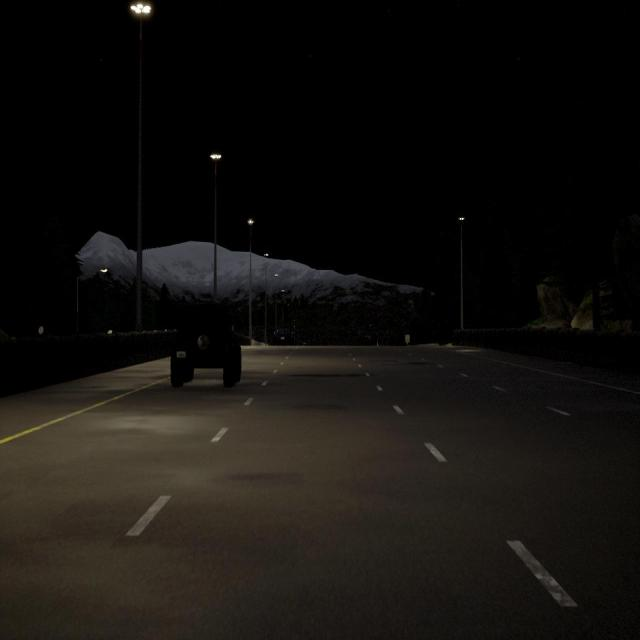Vehicle: (170, 304, 242, 388), (274, 328, 291, 346)
